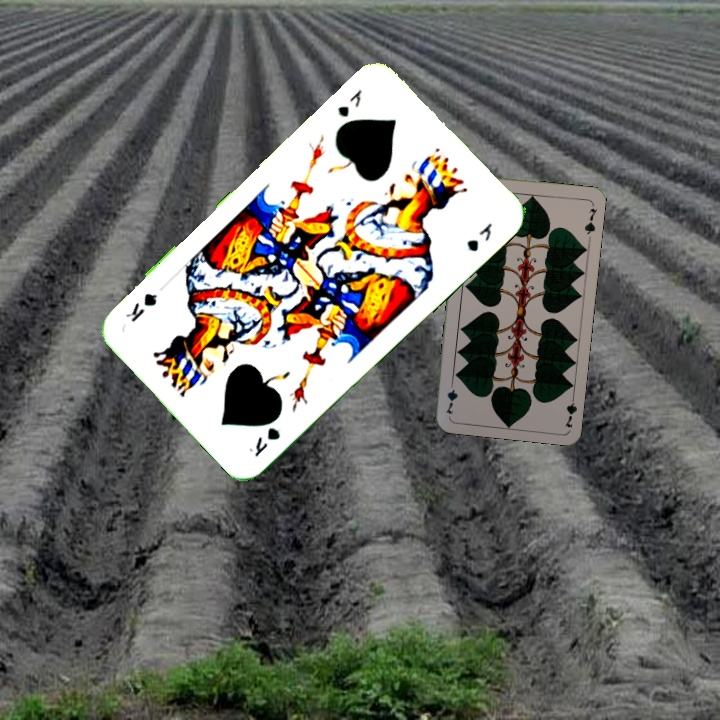G7: (561, 389, 579, 430)
GK: (250, 423, 283, 460), (333, 84, 365, 120)
